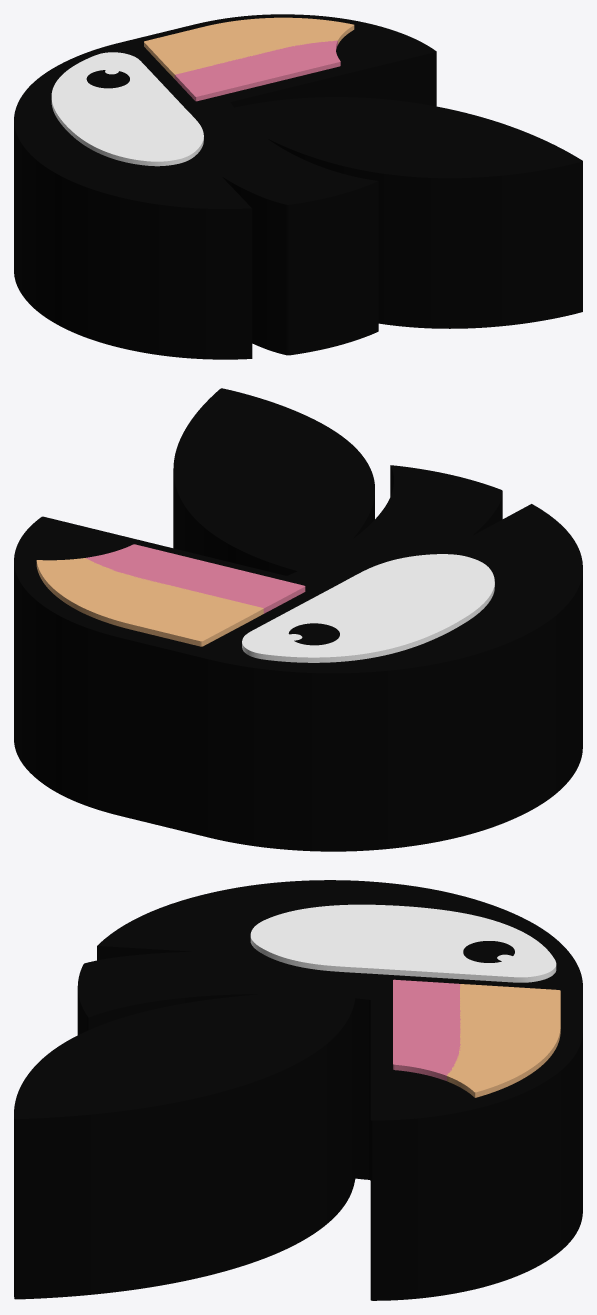
File: toucan.glb
3 renders of one model, top to bottom at view 1: azimuth 30°, elevation 25°; view 2: azimuth 150°, elevation 25°; view 3: azimuth 270°, elevation 25°, orthographic. The views are drawn at different scales.
Visible parts, largest first — view 1: Curve.003; view 2: Curve.003; view 3: Curve.003.
Part boxes in pixels (x1,y1,x2,y2): Curve.003: (14, 14, 582, 359); Curve.003: (14, 388, 582, 851); Curve.003: (14, 880, 582, 1300).
Bounding box in the file's own units: 0.5438 × 0.196 × 0.5437.
